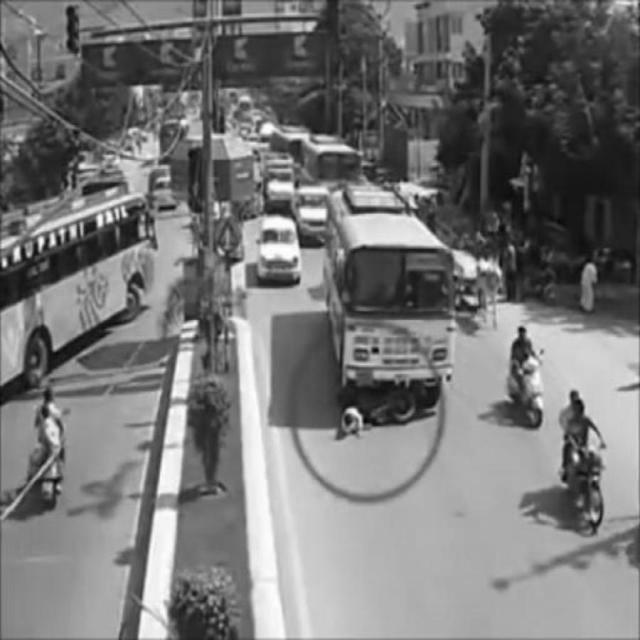accident: (326, 190, 457, 443)
vehicle: (3, 185, 157, 385), (557, 387, 607, 521), (34, 385, 66, 513), (508, 325, 546, 427), (260, 217, 300, 279)
